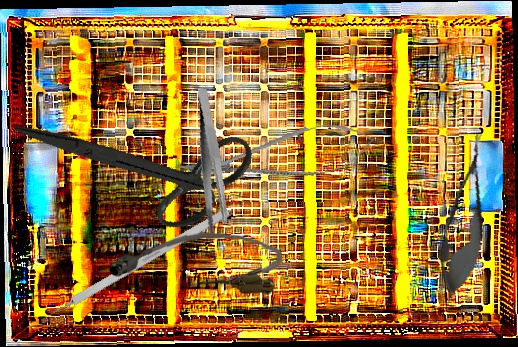Cannula: (107, 226, 284, 296)
Dressing Forceps: (176, 88, 247, 235)
Hook Surgical: (33, 207, 231, 327)
Iris Scissors: (12, 57, 268, 269)
Micro Scissor: (168, 113, 382, 201), (432, 128, 499, 302)
